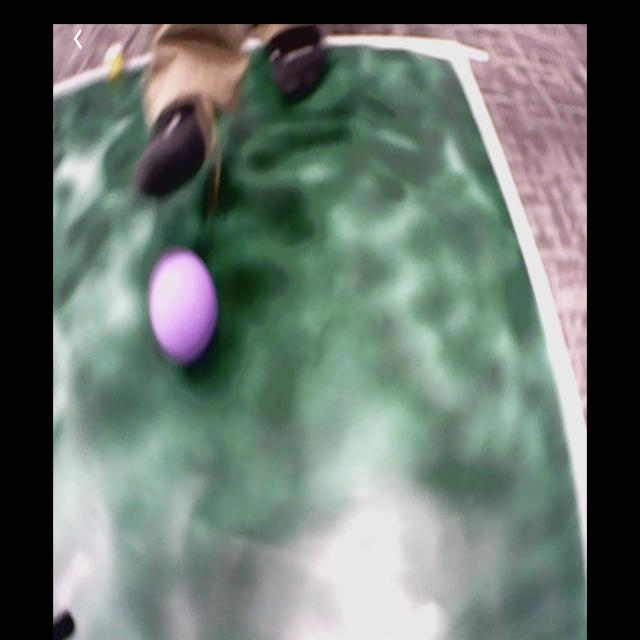ball: (151, 252, 217, 360)
